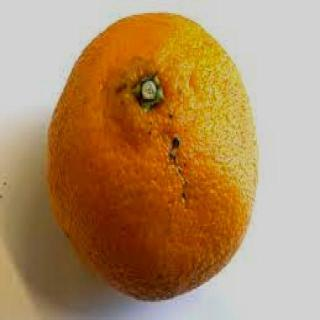orange: (34, 5, 282, 320)
